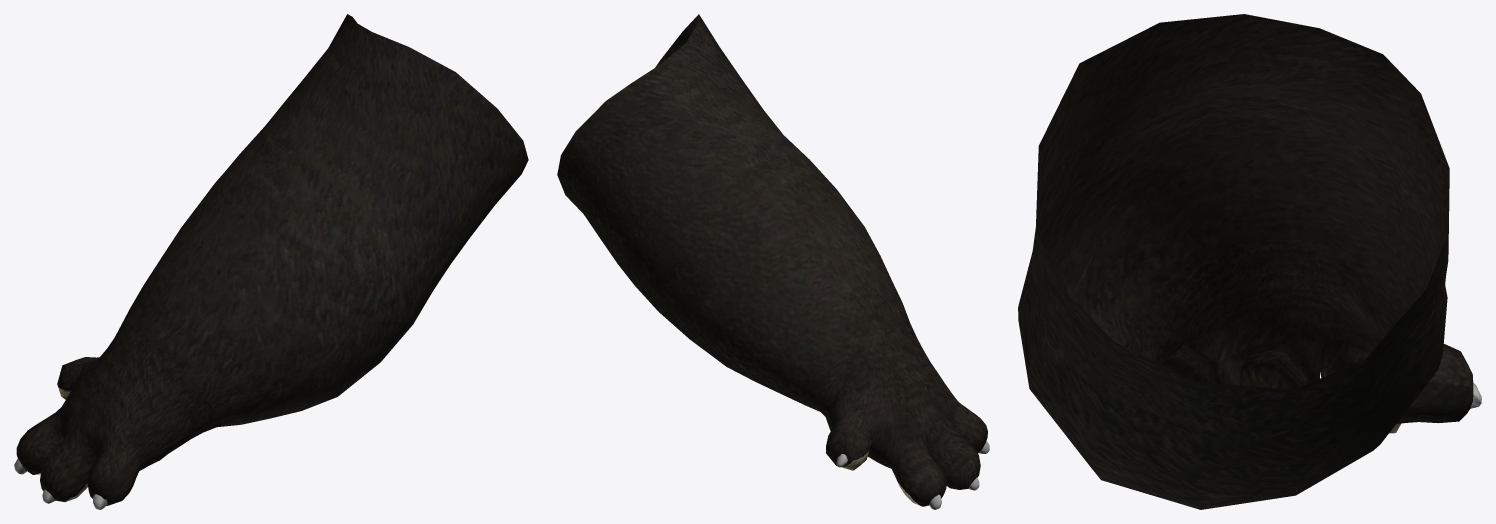
The model's file is BraIzqPo.obj.
3 views of the same model, side by side, from view 1: azimuth 30°, elevation 25°; view 2: azimuth 150°, elevation 25°; view 3: azimuth 270°, elevation 25° (orthographic). The views are drawn at different scales.
Visible parts, largest first — view 1: ValveBiped.Bip01_L_Forearm, ValveBiped.Bip01_L_UpperArm, ValveBiped.Bip01_L_Hand, ValveBiped.Bip01_L_Finger21, ValveBiped.Bip01_L_Finger3, ValveBiped.Bip01_L_Finger31, ValveBiped.Bip01_L_Finger11, ValveBiped.Bip01_Spine4, ValveBiped.Bip01_L_Finger2, ValveBiped.Bip01_L_Finger1, ValveBiped.Bip01_L_Finger01; view 2: ValveBiped.Bip01_L_Forearm, ValveBiped.Bip01_L_UpperArm, ValveBiped.Bip01_L_Hand, ValveBiped.Bip01_L_Finger1, ValveBiped.Bip01_L_Finger01, ValveBiped.Bip01_L_Finger11, ValveBiped.Bip01_L_Finger0, ValveBiped.Bip01_L_Finger21, ValveBiped.Bip01_L_Finger31, ValveBiped.Bip01_L_Finger2, ValveBiped.Bip01_L_Finger3; view 3: ValveBiped.Bip01_L_UpperArm, ValveBiped.Bip01_L_Forearm, ValveBiped.Bip01_L_Hand, ValveBiped.Bip01_L_Finger01, ValveBiped.Bip01_L_Finger1, ValveBiped.Bip01_L_Finger3, ValveBiped.Bip01_L_Finger2, ValveBiped.Bip01_L_Finger21, ValveBiped.Bip01_L_Finger31, ValveBiped.Bip01_Spine4.
Part boxes in pixels (left/top/right/bottom): ValveBiped.Bip01_L_Forearm: left=117, top=123, right=432, bottom=432; ValveBiped.Bip01_L_UpperArm: left=244, top=14, right=528, bottom=308; ValveBiped.Bip01_L_Hand: left=66, top=323, right=215, bottom=465; ValveBiped.Bip01_L_Finger21: left=40, top=438, right=94, bottom=503; ValveBiped.Bip01_L_Finger3: left=86, top=415, right=156, bottom=485; ValveBiped.Bip01_L_Finger31: left=87, top=451, right=136, bottom=509; ValveBiped.Bip01_L_Finger11: left=14, top=418, right=55, bottom=474; ValveBiped.Bip01_Spine4: left=433, top=72, right=496, bottom=108; ValveBiped.Bip01_L_Finger2: left=65, top=413, right=98, bottom=465; ValveBiped.Bip01_L_Finger1: left=37, top=390, right=73, bottom=447; ValveBiped.Bip01_L_Finger01: left=57, top=357, right=98, bottom=399; ValveBiped.Bip01_L_Forearm: left=639, top=131, right=916, bottom=416; ValveBiped.Bip01_L_UpperArm: left=557, top=14, right=802, bottom=310; ValveBiped.Bip01_L_Hand: left=825, top=322, right=951, bottom=456; ValveBiped.Bip01_L_Finger1: left=869, top=416, right=944, bottom=479; ValveBiped.Bip01_L_Finger01: left=826, top=409, right=872, bottom=470; ValveBiped.Bip01_L_Finger11: left=895, top=453, right=946, bottom=509; ValveBiped.Bip01_L_Finger0: left=829, top=391, right=906, bottom=456; ValveBiped.Bip01_L_Finger21: left=935, top=436, right=980, bottom=490; ValveBiped.Bip01_L_Finger31: left=956, top=413, right=989, bottom=453; ValveBiped.Bip01_L_Finger2: left=929, top=416, right=964, bottom=461; ValveBiped.Bip01_L_Finger3: left=943, top=388, right=974, bottom=431; ValveBiped.Bip01_L_UpperArm: left=1018, top=14, right=1449, bottom=481; ValveBiped.Bip01_L_Forearm: left=1018, top=95, right=1447, bottom=509; ValveBiped.Bip01_L_Hand: left=1129, top=242, right=1388, bottom=364; ValveBiped.Bip01_L_Finger01: left=1402, top=344, right=1481, bottom=423; ValveBiped.Bip01_L_Finger1: left=1289, top=321, right=1378, bottom=382; ValveBiped.Bip01_L_Finger3: left=1161, top=317, right=1247, bottom=384; ValveBiped.Bip01_L_Finger2: left=1223, top=322, right=1319, bottom=384; ValveBiped.Bip01_L_Finger21: left=1239, top=347, right=1306, bottom=390; ValveBiped.Bip01_L_Finger31: left=1163, top=352, right=1213, bottom=382; ValveBiped.Bip01_Spine4: left=1039, top=64, right=1079, bottom=144.
Size of the model in its own units: 1.83 by 1.62 by 1.01.
